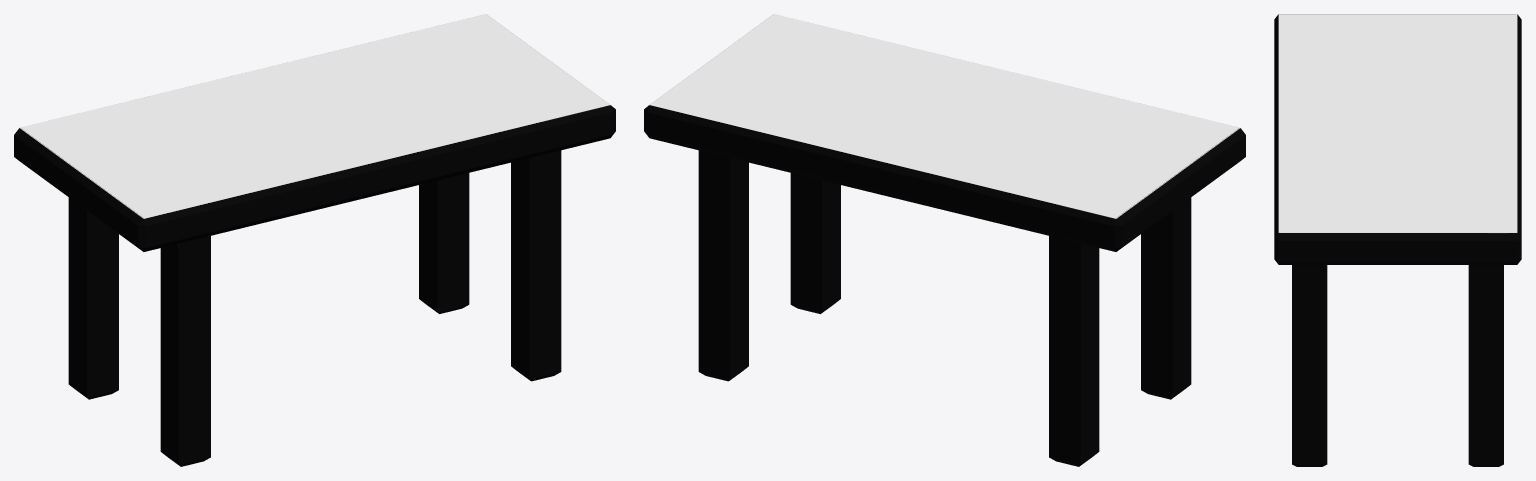
File: table.glb
The picture shows the model from 3 angles, left to right: view 1: azimuth 30°, elevation 25°; view 2: azimuth 150°, elevation 25°; view 3: azimuth 270°, elevation 25°; orthographic projection. The views are drawn at different scales.
Parts seen in each view (by area): view 1: Cube; view 2: Cube; view 3: Cube.
Boxes of the visible parts, left/top/right/bottom form: Cube: left=14, top=14, right=615, bottom=466; Cube: left=644, top=14, right=1245, bottom=466; Cube: left=1274, top=14, right=1521, bottom=466.
Size of the model in its own units: 3 by 1.6 by 1.4.
Materials: 1 (1 with a texture image).
